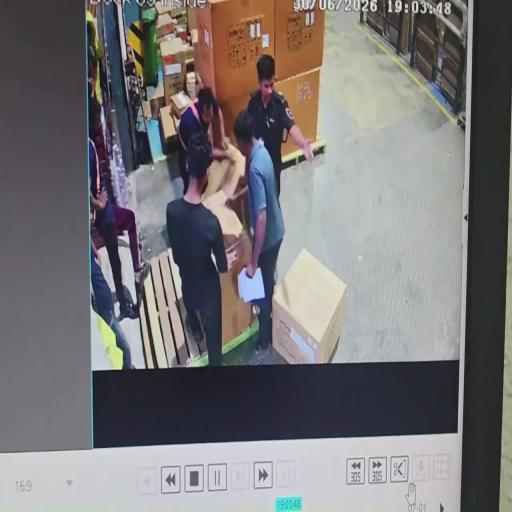carton: (271, 246, 348, 365), (195, 0, 275, 105), (201, 226, 254, 350), (272, 67, 321, 156), (274, 1, 326, 81), (201, 142, 245, 231), (215, 85, 260, 143), (139, 98, 163, 166), (161, 44, 187, 98), (159, 97, 188, 144), (156, 23, 186, 51), (170, 88, 192, 119), (156, 0, 178, 25)
pallet: (134, 247, 206, 370), (186, 316, 260, 368), (281, 135, 327, 171)
person: (165, 138, 235, 366), (226, 111, 286, 365), (88, 102, 150, 320), (245, 55, 315, 200), (88, 219, 136, 369), (176, 87, 236, 196)
